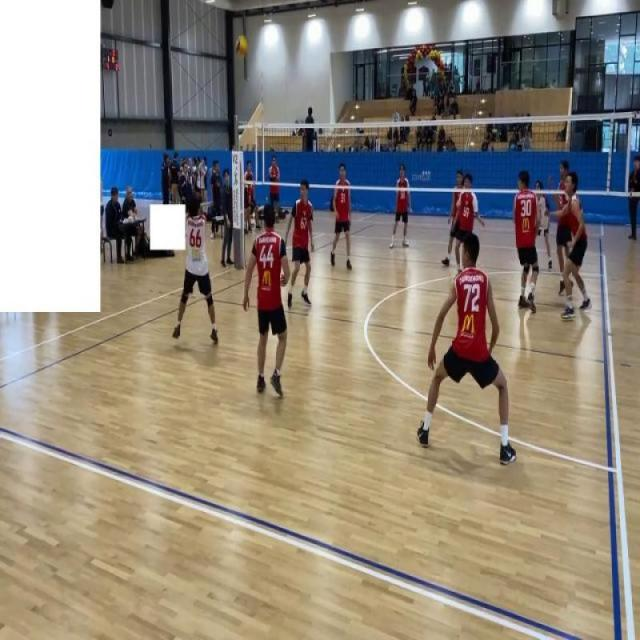volleyball: (234, 33, 248, 61)
